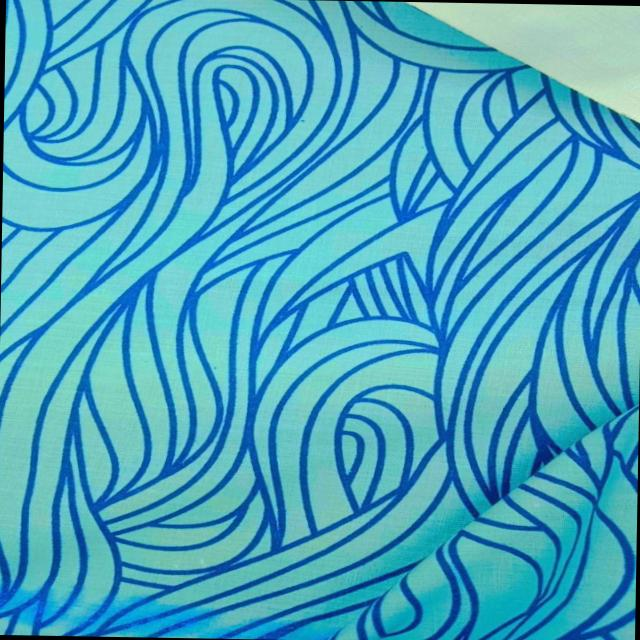color issues: (0, 559, 360, 640)
